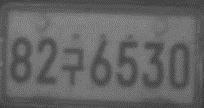0: (168, 41, 191, 90)
2: (35, 36, 58, 86)
3: (142, 40, 165, 90)
5: (115, 40, 138, 87)
6: (89, 38, 113, 87)
8: (10, 36, 33, 83)
구: (60, 45, 84, 86)
